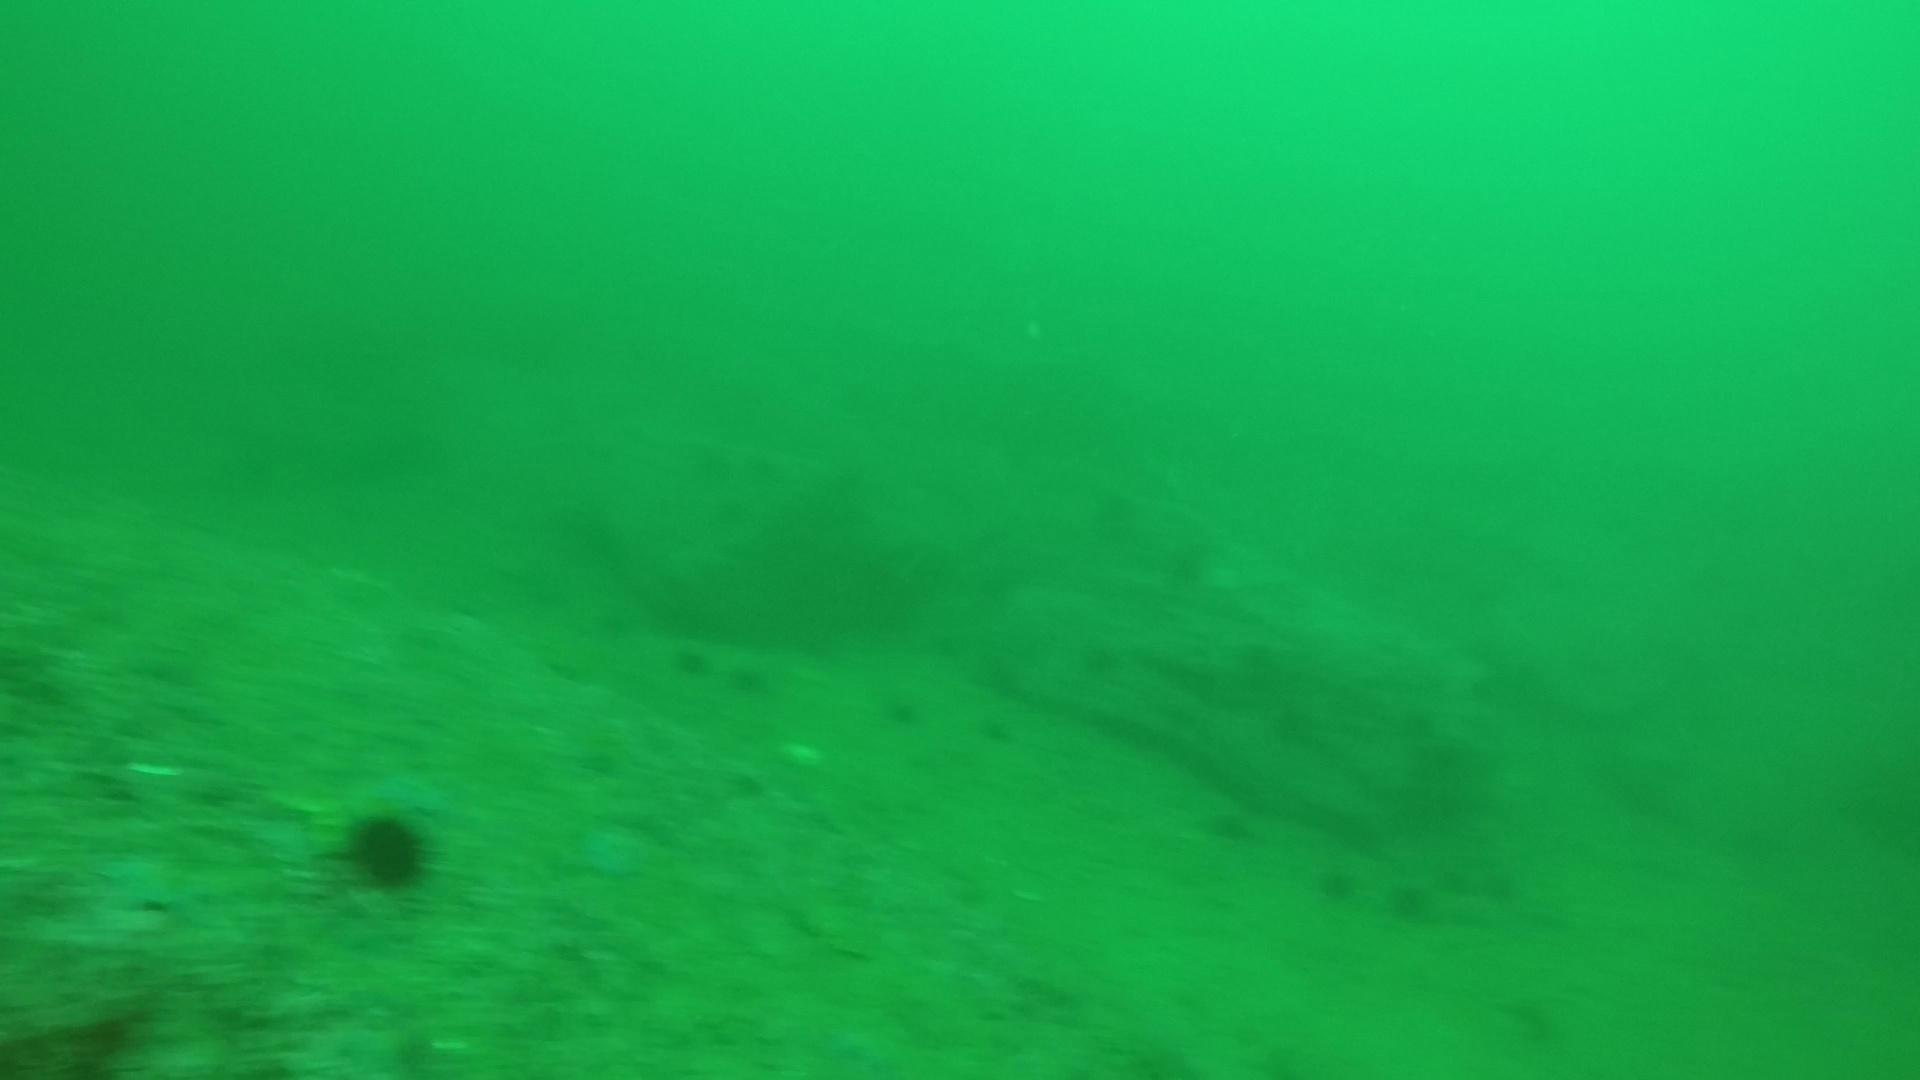echinus: (336, 804, 438, 895), (1379, 874, 1440, 928), (1211, 802, 1265, 853), (972, 702, 1026, 753), (873, 684, 927, 736), (715, 653, 769, 704), (1166, 531, 1220, 583), (1266, 699, 1320, 750), (1493, 866, 1547, 918), (1309, 858, 1364, 909), (662, 634, 716, 684), (585, 601, 640, 651), (1075, 632, 1129, 682), (1244, 638, 1298, 688)
starfish: (91, 847, 211, 918), (566, 818, 658, 884)
